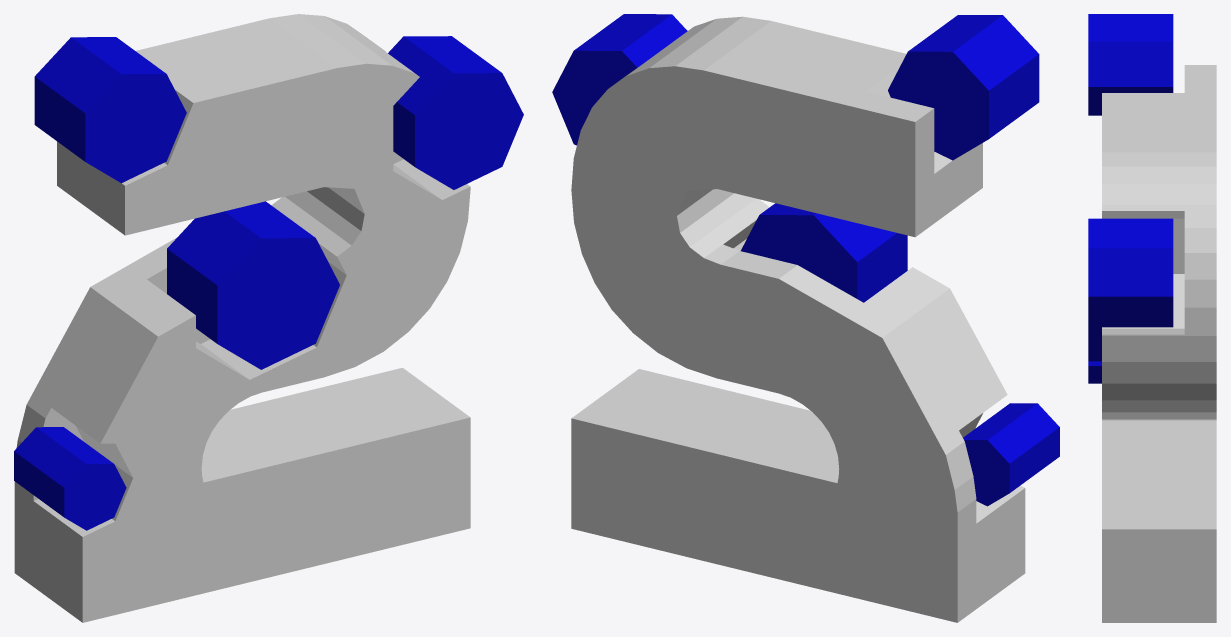
The model's file is Ch_Lite_2_01.fbx.
3 renders of one model, left to right at view 1: azimuth 30°, elevation 25°; view 2: azimuth 150°, elevation 25°; view 3: azimuth 270°, elevation 25°, orthographic. The views are drawn at different scales.
Parts seen in each view (by area): view 1: sphere1; view 2: sphere1; view 3: sphere1.
Part boxes in pixels (x1,y1,x2,y2): sphere1: (14,14,523,622); sphere1: (552,14,1059,622); sphere1: (1088,14,1216,622).
Bounding box in the file's own units: 0.7806 × 0.8886 × 0.2242.
